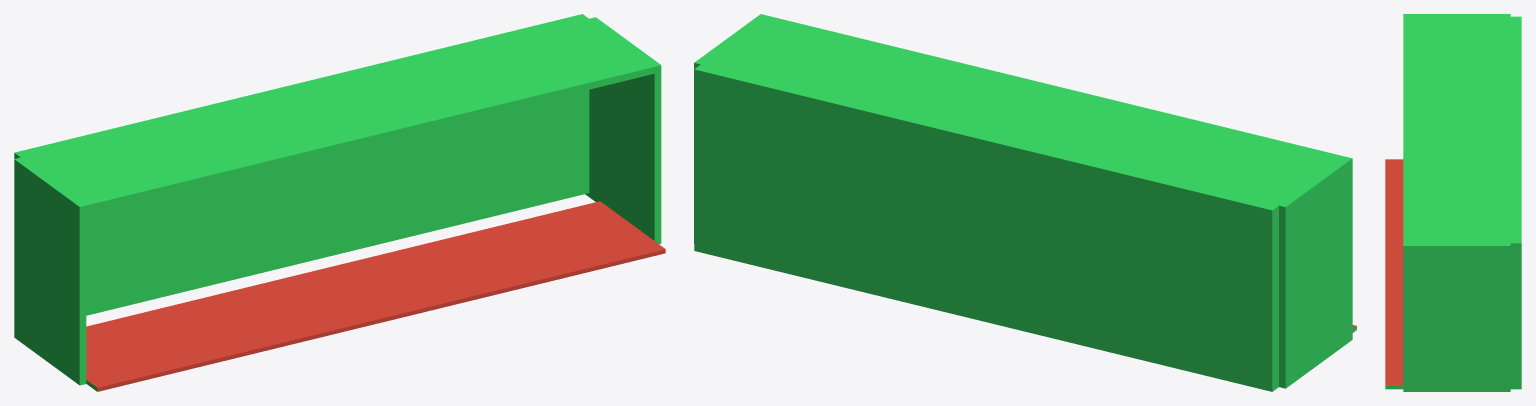
File: tiendas_exteriores.fbx
The picture shows the model from 3 angles, left to right: view 1: azimuth 30°, elevation 25°; view 2: azimuth 150°, elevation 25°; view 3: azimuth 270°, elevation 25°; orthographic projection. The views are drawn at different scales.
Parts seen in each view (by area): view 1: Cube, Cube.046, Cube.044, Cube.045, Cube.043; view 2: Cube, Cube.046, Cube.045, Cube.043; view 3: Cube.046, Cube.043, Cube, Cube.044, Cube.045.
Boxes of the visible parts, x1,y1,x2,y2 form: Cube: [14, 14, 589, 315]; Cube.046: [21, 19, 654, 212]; Cube.044: [86, 201, 665, 391]; Cube.045: [14, 157, 86, 385]; Cube.043: [589, 17, 661, 243]; Cube: [694, 64, 1278, 391]; Cube.046: [701, 15, 1345, 205]; Cube.045: [1279, 157, 1352, 388]; Cube.043: [694, 14, 766, 243]; Cube.046: [1403, 16, 1510, 243]; Cube.043: [1403, 243, 1510, 391]; Cube: [1510, 16, 1521, 389]; Cube.044: [1385, 159, 1403, 389]; Cube.045: [1403, 14, 1510, 16].
Size of the model in its own units: 2047 by 600 by 507.
